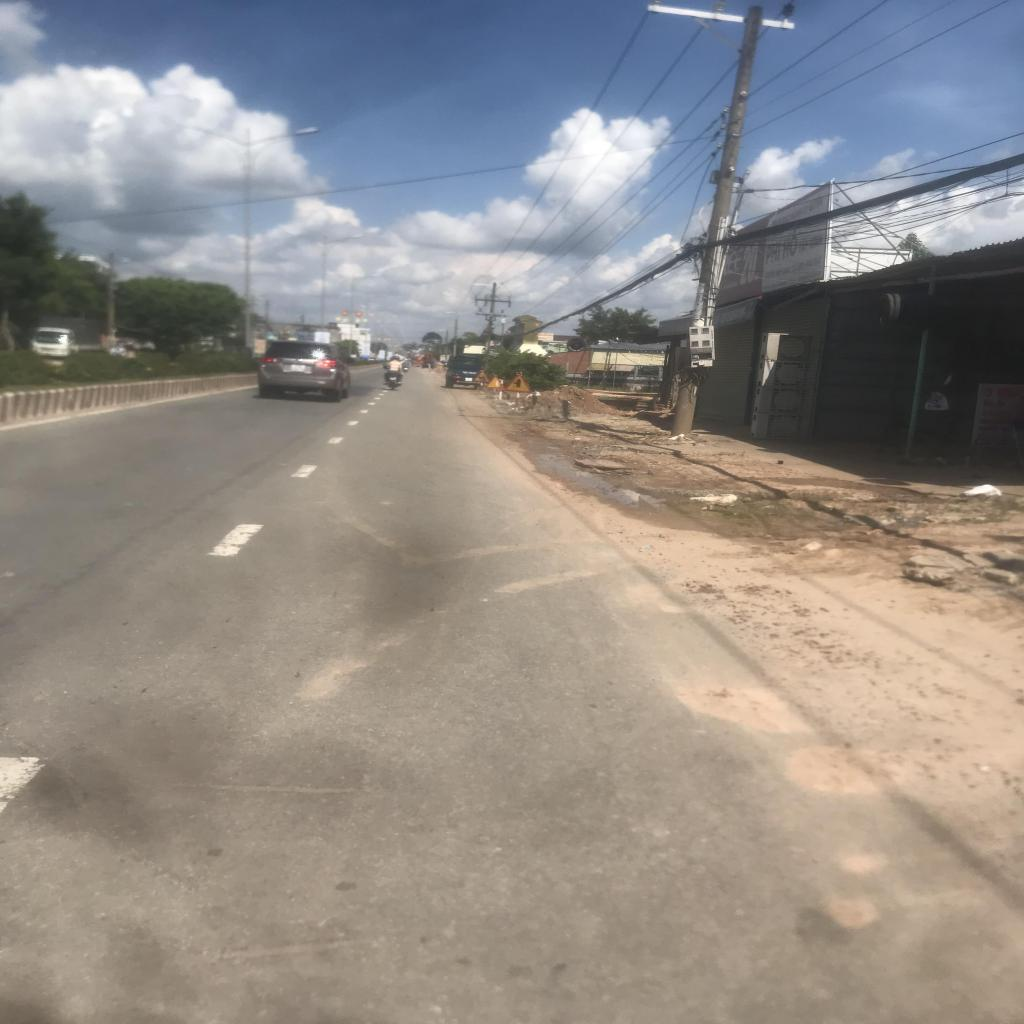cho_ngoat_nguy_hiem_lien_tiep: (473, 370, 489, 382)
giao_nhau_voi_duong_khong_uu_tien: (504, 373, 533, 393)
khac: (486, 375, 501, 388)
